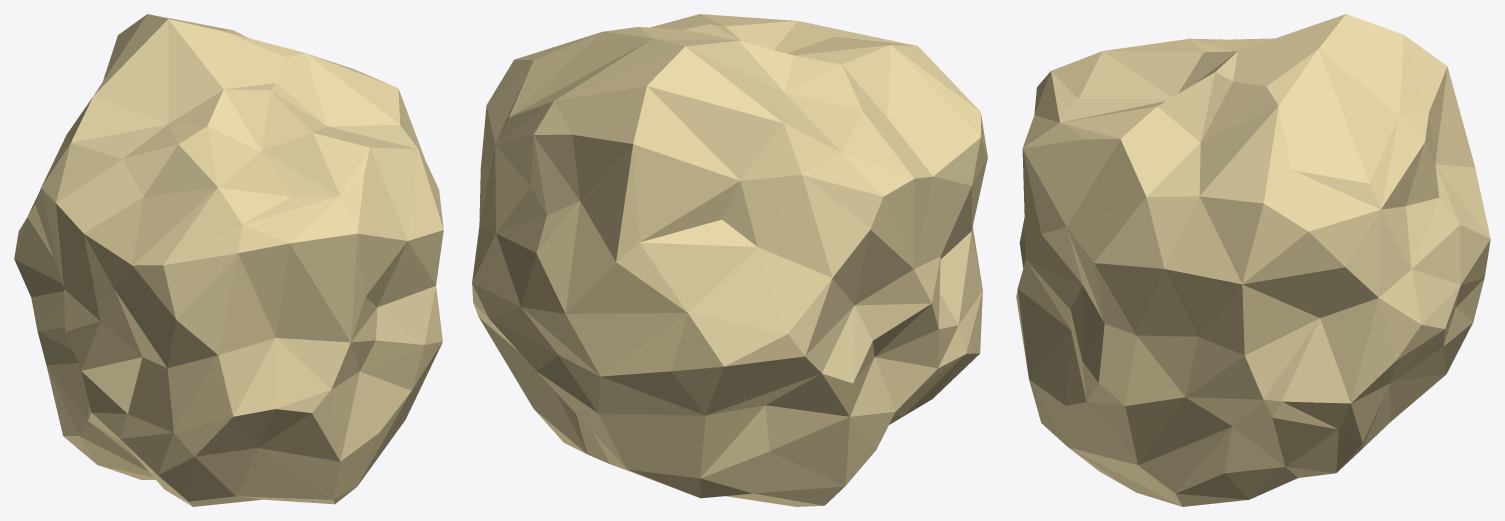
The model's file is Asteroid (85).fbx.
The picture shows the model from 3 angles, left to right: view 1: azimuth 30°, elevation 25°; view 2: azimuth 150°, elevation 25°; view 3: azimuth 270°, elevation 25°; orthographic projection. The views are drawn at different scales.
Visible parts, largest first — view 1: Asteroid97; view 2: Asteroid97; view 3: Asteroid97.
Boxes of the visible parts, bbox=[...] form: Asteroid97: bbox=[14, 14, 443, 506]; Asteroid97: bbox=[472, 14, 987, 506]; Asteroid97: bbox=[1016, 14, 1490, 506].
Bounding box in the file's own units: 240 × 263 × 254.
